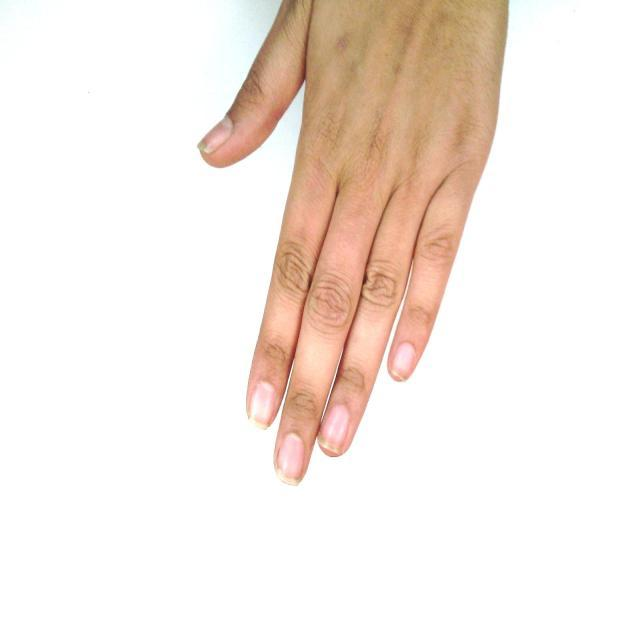Fingernail: (277, 434, 305, 483), (320, 404, 348, 452), (199, 117, 232, 153), (251, 383, 276, 427), (393, 344, 415, 376)
